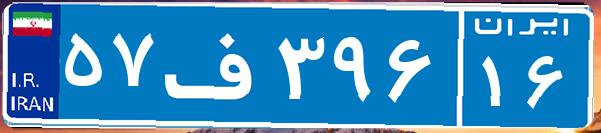1: (475, 38, 525, 113)
3: (273, 28, 330, 110)
5: (57, 26, 110, 107)
6: (385, 28, 445, 110), (525, 38, 570, 115)
7: (110, 28, 158, 105)
9: (330, 28, 385, 110)
ف: (158, 15, 273, 115)
